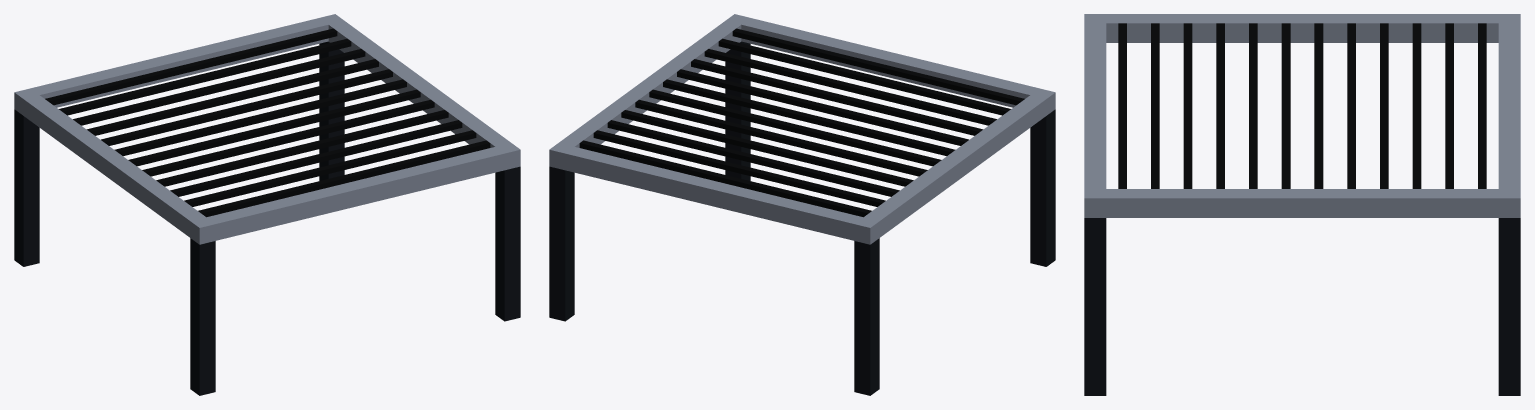
Rendered from SM_Catwalk_2x2_Open.glb.
The picture shows the model from 3 angles, left to right: view 1: azimuth 30°, elevation 25°; view 2: azimuth 150°, elevation 25°; view 3: azimuth 270°, elevation 25°; orthographic projection. The views are drawn at different scales.
Visible parts, largest first — view 1: SM_Catwalk_2x2_Open-col; view 2: SM_Catwalk_2x2_Open-col; view 3: SM_Catwalk_2x2_Open-col.
Boxes of the visible parts, x1,y1,x2,y2 form: SM_Catwalk_2x2_Open-col: [14, 14, 520, 395]; SM_Catwalk_2x2_Open-col: [549, 14, 1055, 395]; SM_Catwalk_2x2_Open-col: [1084, 14, 1520, 395].
Size of the model in its own units: 2 by 1 by 2.
